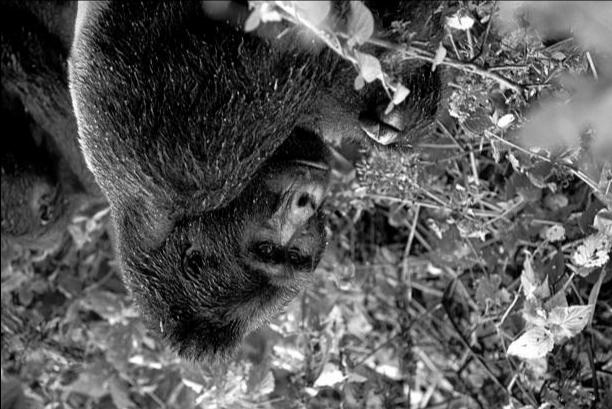goriile_montagne: (66, 0, 442, 378)
